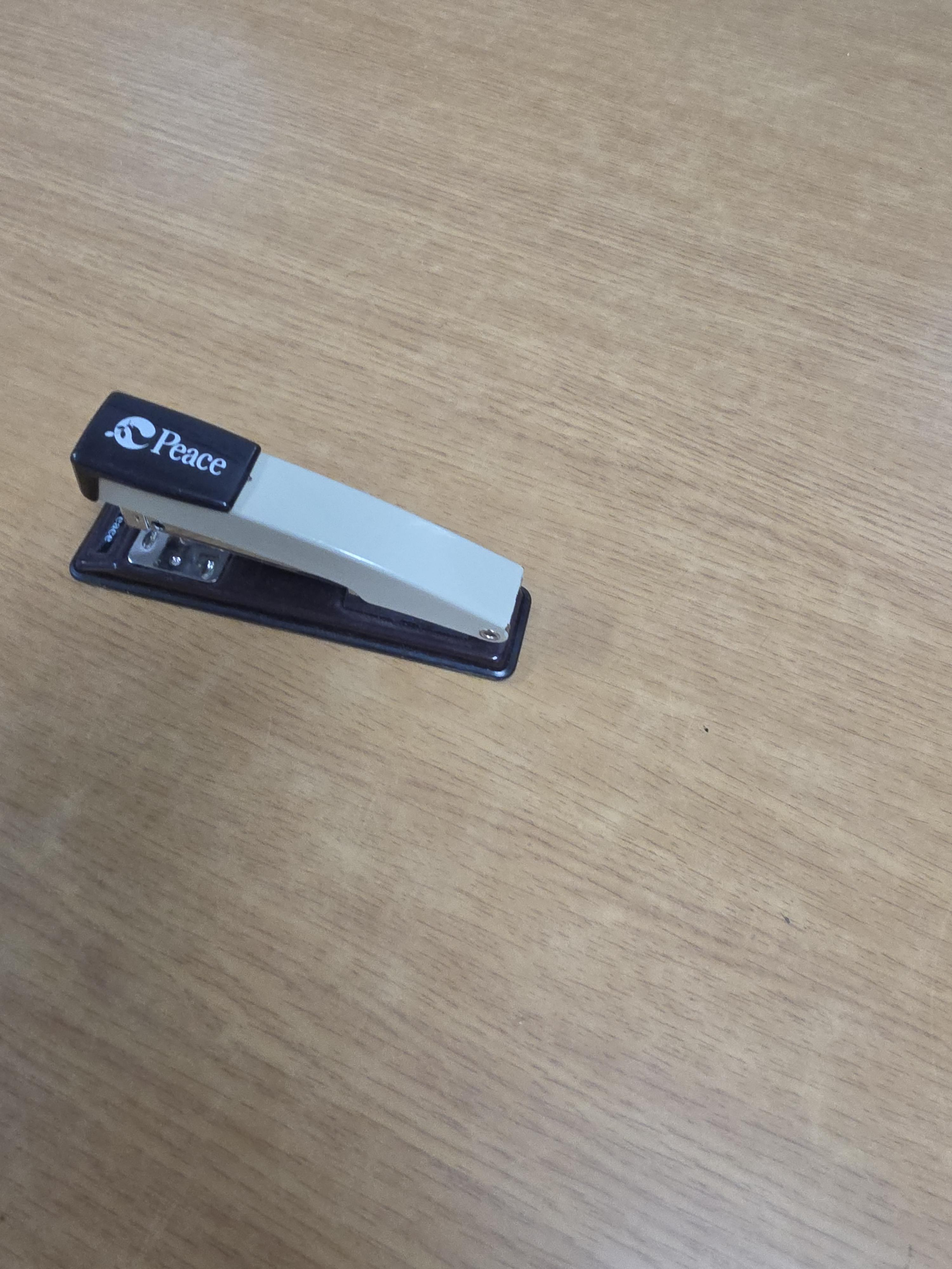stapler: (68, 390, 534, 682)
